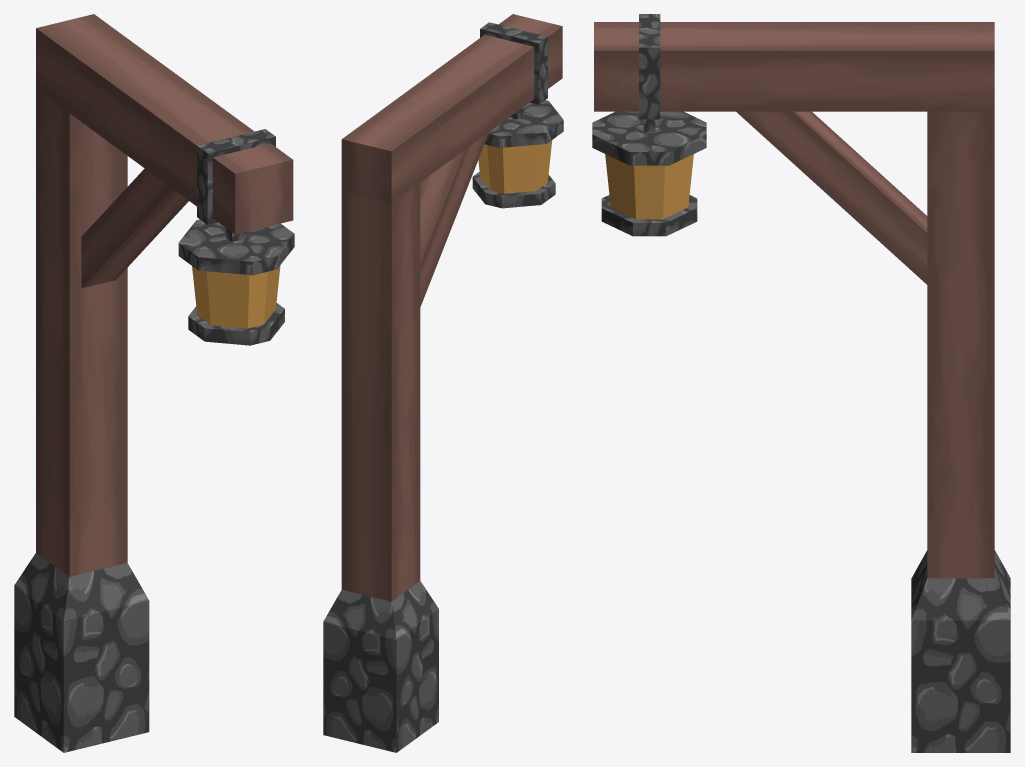
Rendered from Road Lamp.fbx.
3 renders of one model, left to right at view 1: azimuth 30°, elevation 25°; view 2: azimuth 150°, elevation 25°; view 3: azimuth 270°, elevation 25°, orthographic. The views are drawn at different scales.
Parts seen in each view (by area): view 1: Cube.190; view 2: Cube.190; view 3: Cube.190.
Part boxes in pixels (<box>): Cube.190: <box>14,14,294,752</box>; Cube.190: <box>323,14,563,752</box>; Cube.190: <box>592,14,1010,752</box>.
Size of the model in its own units: 37.27 by 258 by 140.
1 material, 1 textured.
